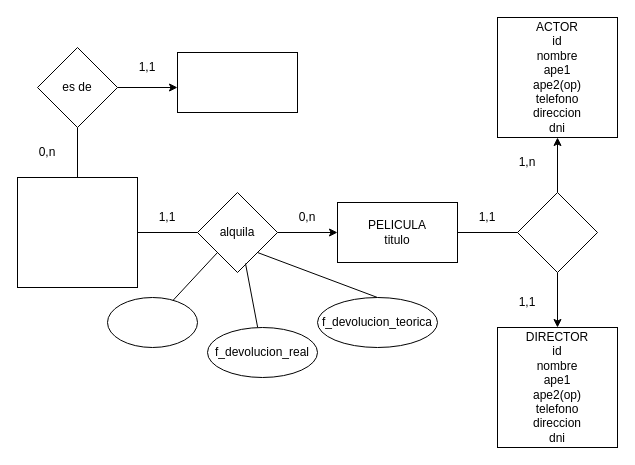
Some shapes in this 635 by 465 pixel diagram are drawn without their labels. Each missing label, with the box of its shape:
CIUDAD id nombre: (176, 52, 298, 112)
compuesta: (516, 192, 598, 272)
f_inici: (106, 296, 198, 348)
SOCIO nombre ape1 ape2(op) telefono direccion dni: (16, 176, 138, 288)
